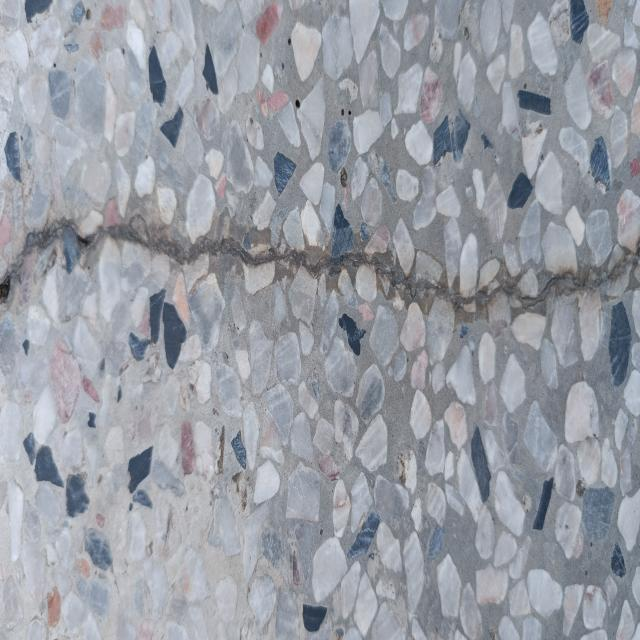horizontal crack: (0, 214, 639, 308)
